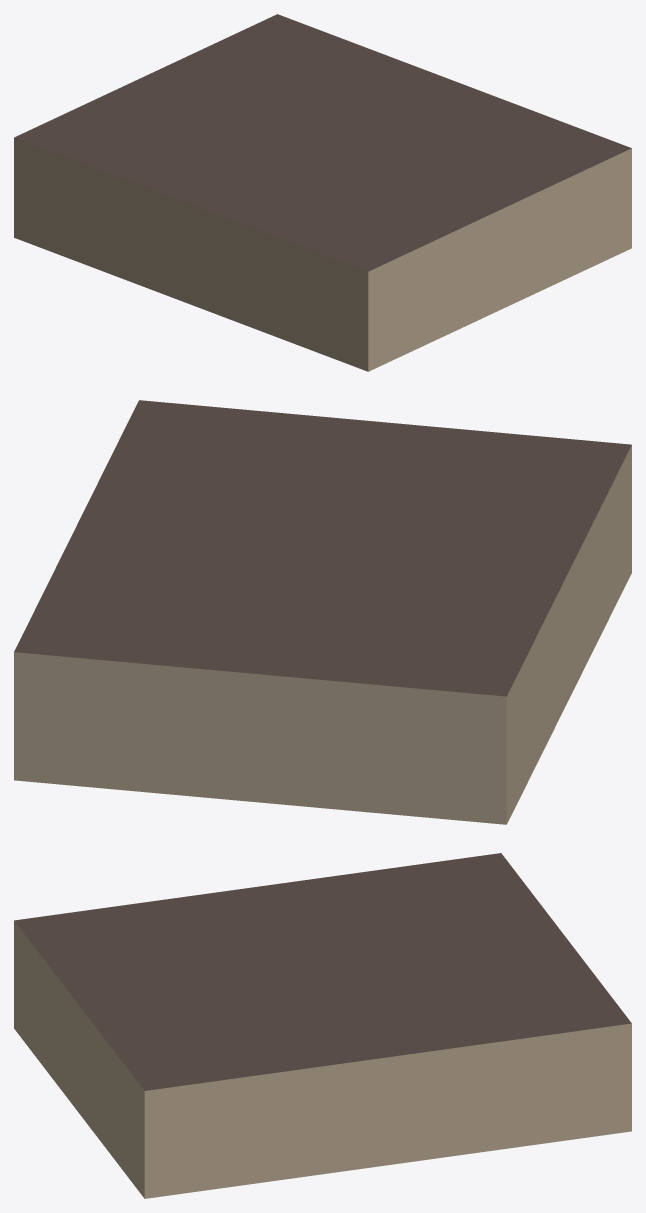
3 renders of one model, top to bottom at view 1: azimuth 30°, elevation 25°; view 2: azimuth 150°, elevation 25°; view 3: azimuth 270°, elevation 25°, orthographic. The views are drawn at different scales.
Parts seen in each view (by area): view 1: HP-w494395699; view 2: HP-w494395699; view 3: HP-w494395699.
Boxes of the visible parts, x1=… form: HP-w494395699: x1=14, y1=14, x2=631, y2=371; HP-w494395699: x1=14, y1=400, x2=631, y2=824; HP-w494395699: x1=14, y1=853, x2=631, y2=1198.
Bounding box in the file's own units: 28.38 × 6 × 31.13.
